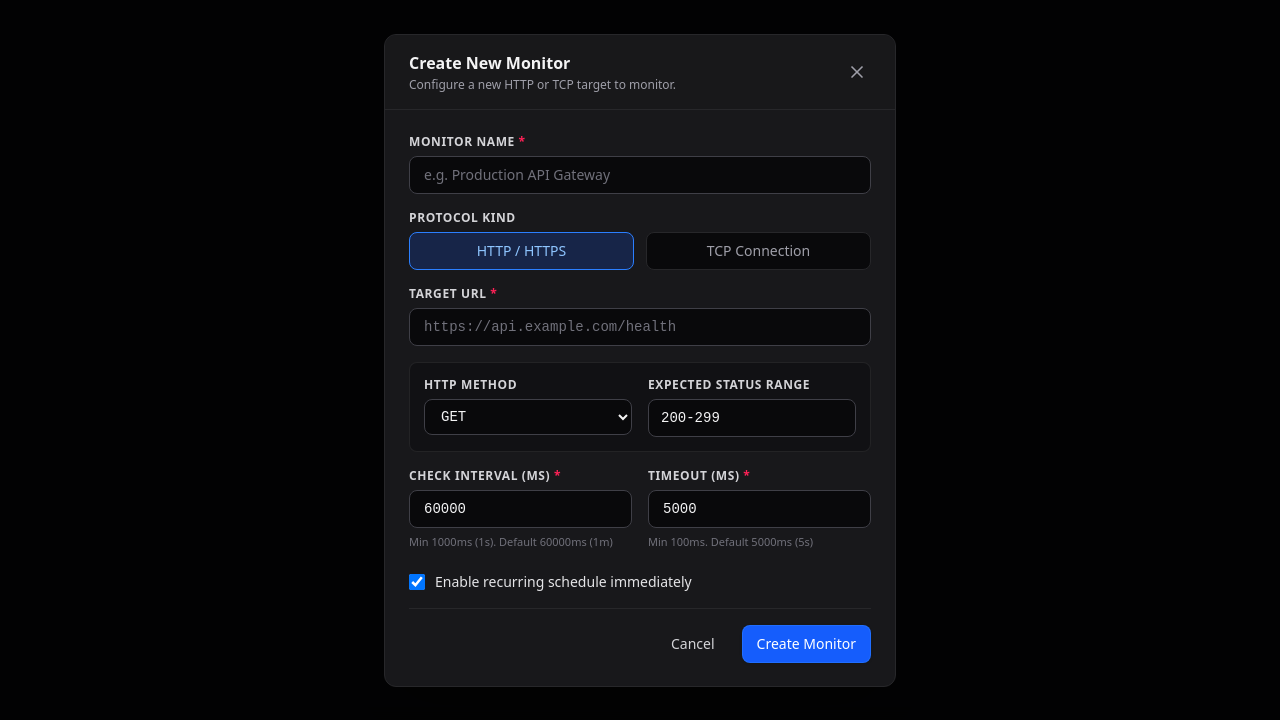
Scenario: MonitorFormModal › hides HTTP method and status range when switched to TCP
This screenshot has width=1280, height=720.
Step 1. Click the button "TCP Connection" → click(758, 250), box [646,232,871,270]
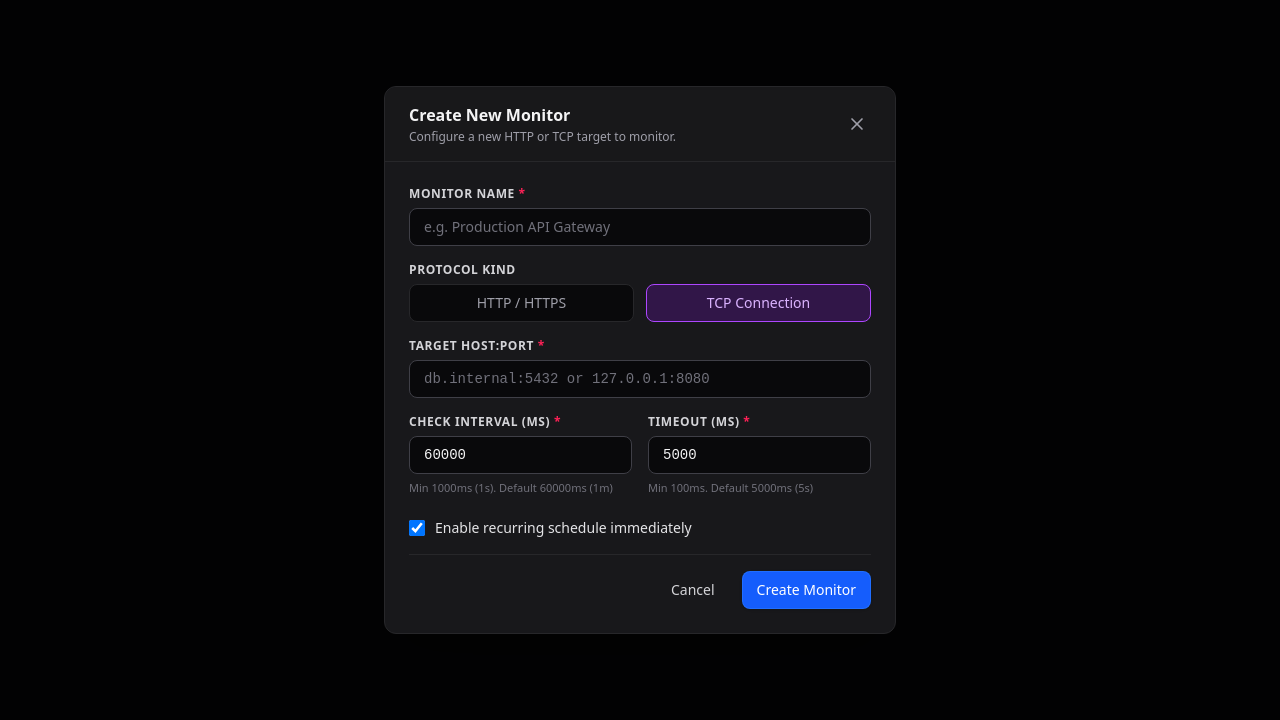
Result: the text "HTTP Method" is gone
Result: the text "Expected Status Range" is gone
Result: the field with placeholder "db.internal:5432 or 127.0.0.1:8080" is shown at [409,360,871,398]
